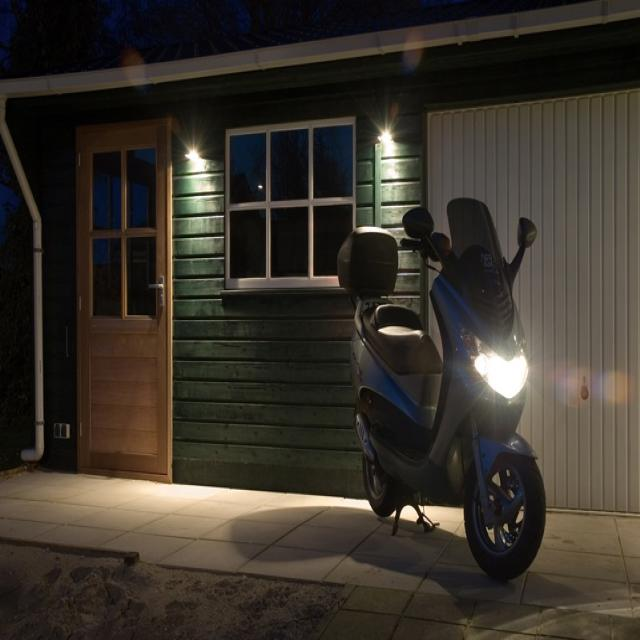Motorbike: (296, 208, 568, 553)
